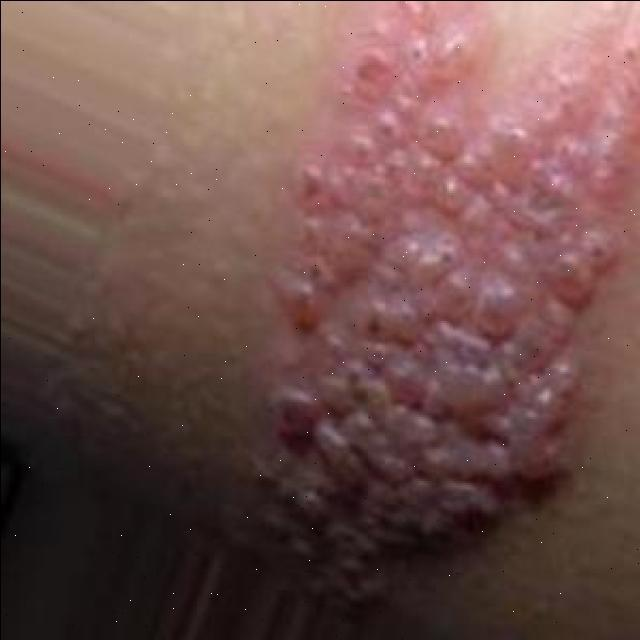Shingles: (268, 0, 637, 552)
